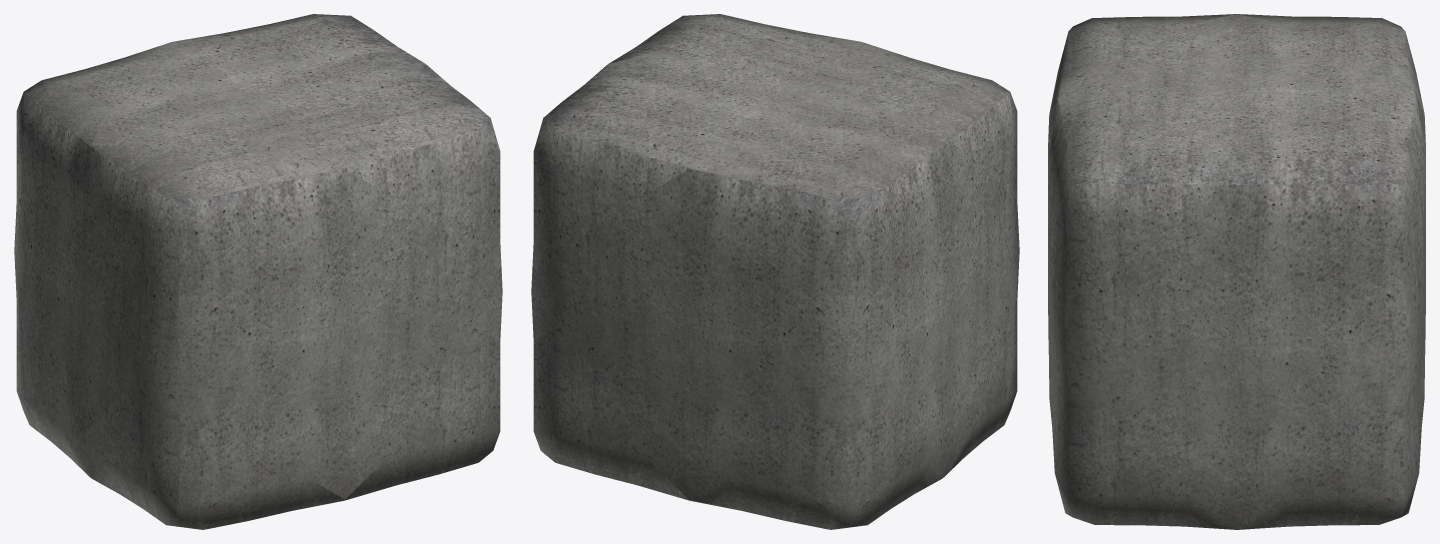
File: SquareBetonada.gltf
3 views of the same model, side by side, from view 1: azimuth 30°, elevation 25°; view 2: azimuth 150°, elevation 25°; view 3: azimuth 270°, elevation 25° (orthographic). The views are drawn at different scales.
Parts seen in each view (by area): view 1: node1; view 2: node1; view 3: node1.
Part boxes in pixels (bbox=[...]): node1: bbox=[14, 14, 502, 529]; node1: bbox=[531, 14, 1019, 529]; node1: bbox=[1048, 14, 1425, 529].
Bounding box in the file's own units: 0.8487 × 0.8033 × 0.758.
